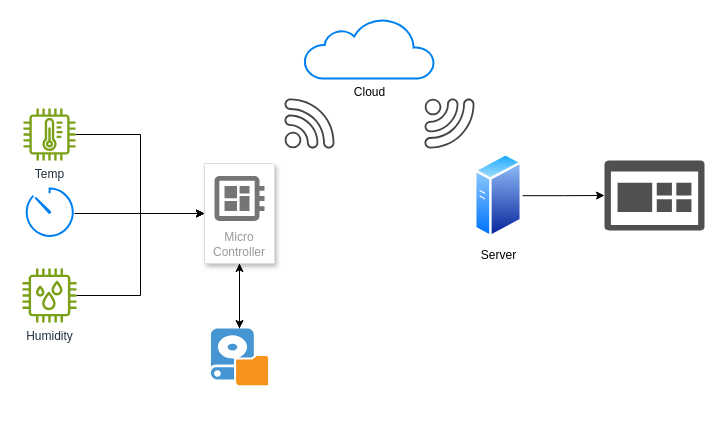
The diagram is 721 pixels wide and 423 high, and some of its shapes have lost their labels. Each missing label, with the centre of its shape:
"Dashboard" belongs at pixel 654 195.
"Local Storage" belongs at pixel 239 356.
"Rain Gauge" belongs at pixel 49 213.
